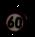Speed Limit -60-: (0, 5, 28, 35)
